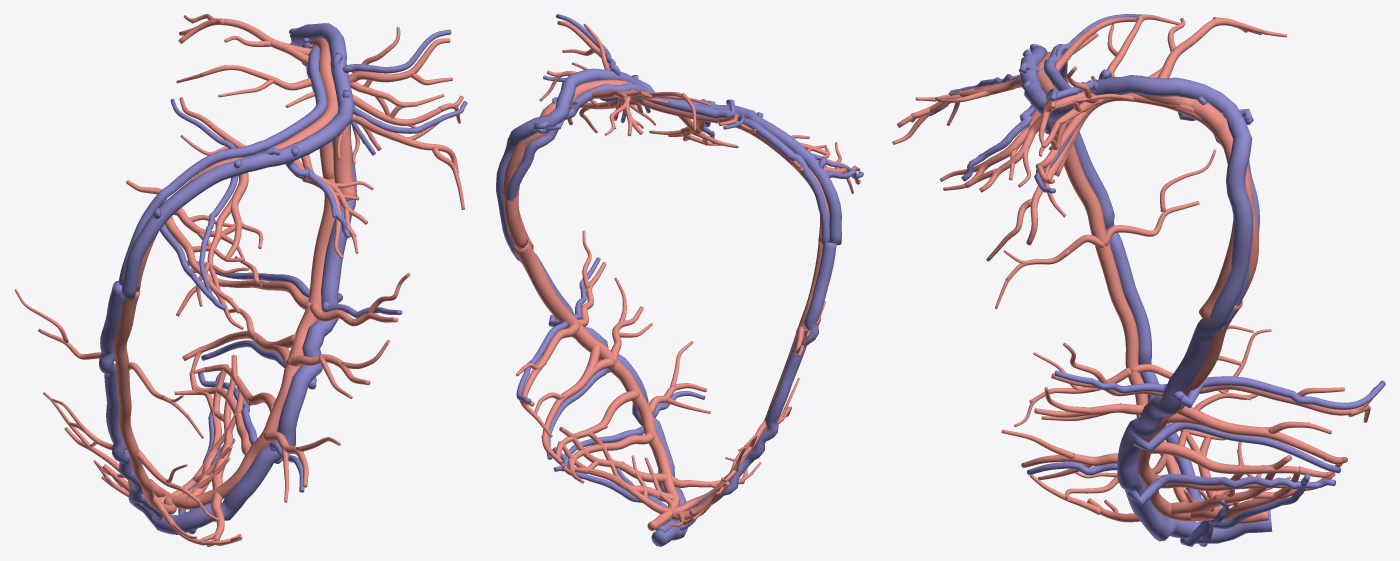
File: vessels_30.glb
The picture shows the model from 3 angles, left to right: view 1: azimuth 30°, elevation 25°; view 2: azimuth 150°, elevation 25°; view 3: azimuth 270°, elevation 25°; orthographic projection. The views are drawn at different scales.
Visible parts, largest first — view 1: Renderer Node; view 2: Renderer Node; view 3: Renderer Node.
Part boxes in pixels (<box>): Renderer Node: <box>14,14,467,546</box>; Renderer Node: <box>496,14,863,546</box>; Renderer Node: <box>892,14,1385,546</box>.
Size of the model in its own units: 93.73 by 120 by 94.36.
